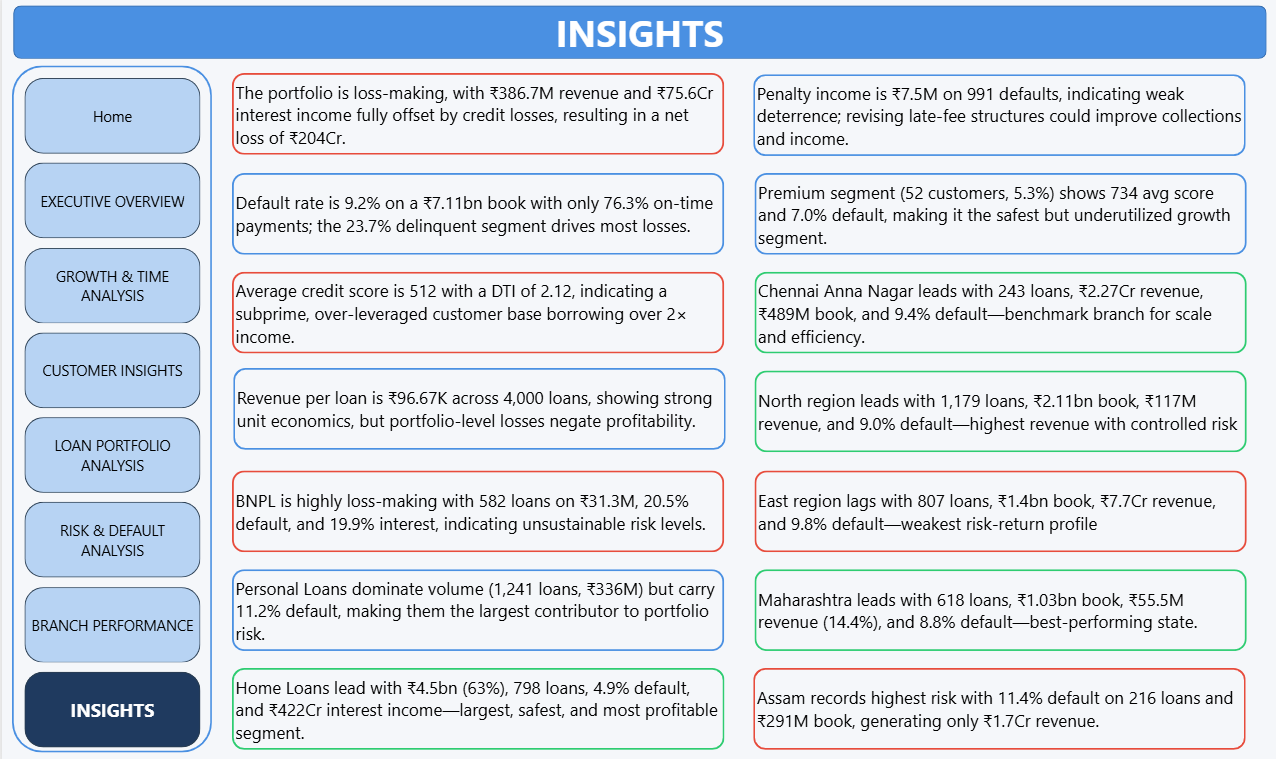

This screenshot's page, from the dashboard's own definition file:
{"tool":"powerbi","page":{"name":"INSIGHTS","canvas":[1400,850],"ordinal":9},"visuals":[{"type":"shape","box":[12,13.5,1374.8,58.5],"z":0},{"type":"shape","box":[11.4,79.8,219.3,753.4],"z":0,"group":"g1"},{"type":"shape","box":[252.1,88.3,539.8,89.7],"z":1000},{"type":"shape","box":[252.1,197,539.8,89.7],"z":2000},{"type":"shape","box":[823.3,88.5,540.2,89.8],"z":3000},{"type":"shape","box":[252.1,305.7,539.8,89.7],"z":4000},{"type":"shape","box":[251.8,740.3,540.2,89.8],"z":5000},{"type":"shape","box":[252.1,523.2,539.8,89.7],"z":6000},{"type":"shape","box":[252.1,631.9,539.8,89.7],"z":7000},{"type":"shape","box":[824.7,197,539.8,89.7],"z":8000},{"type":"shape","box":[824.7,305.7,539.8,89.7],"z":9000},{"type":"shape","box":[824.7,414.5,539.8,89.7],"z":10000},{"type":"shape","box":[824.7,523.2,539.8,89.7],"z":11000},{"type":"shape","box":[824.7,631.9,539.8,89.7],"z":12000},{"type":"shape","box":[823.3,740.3,540.2,89.8],"z":13000},{"type":"group","id":"g1","title":"Group 1","box":[11.4,79.8,219.3,753.4],"z":14000},{"type":"pageNavigator","box":[25.6,94,193.7,736.3],"z":14000,"group":"g1"},{"type":"shape","box":[253.1,411,540.2,89.8],"z":15000}]}

Visuals, with their boxes in screenshot pixels (x1, y1, x2, y2), scaled from the page's 1400x850 canvas onto the 1276x759 screenshot:
shape: [11,12,1264,64]
shape: [10,71,210,744]
shape: [230,79,722,159]
shape: [230,176,722,256]
shape: [750,79,1243,159]
shape: [230,273,722,353]
shape: [229,661,722,741]
shape: [230,467,722,547]
shape: [230,564,722,644]
shape: [752,176,1244,256]
shape: [752,273,1244,353]
shape: [752,370,1244,450]
shape: [752,467,1244,547]
shape: [752,564,1244,644]
shape: [750,661,1243,741]
"Group 1" group: [10,71,210,744]
pageNavigator: [23,84,200,741]
shape: [231,367,723,447]
